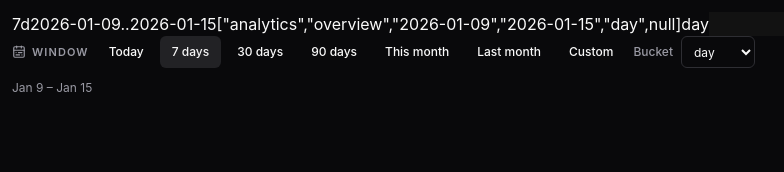
the window drives the URL and the query key › This month resolves the key and the URL
Click the button "This month" at (417, 52), box top-left (373, 36), bottom-right (461, 68)
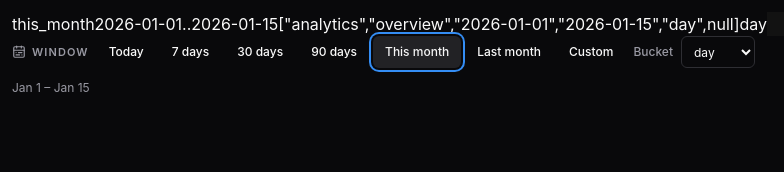
Check: the text with test id "range" reads "2026-01-01..2026-01-15", box top-left (95, 14), bottom-right (278, 34)
